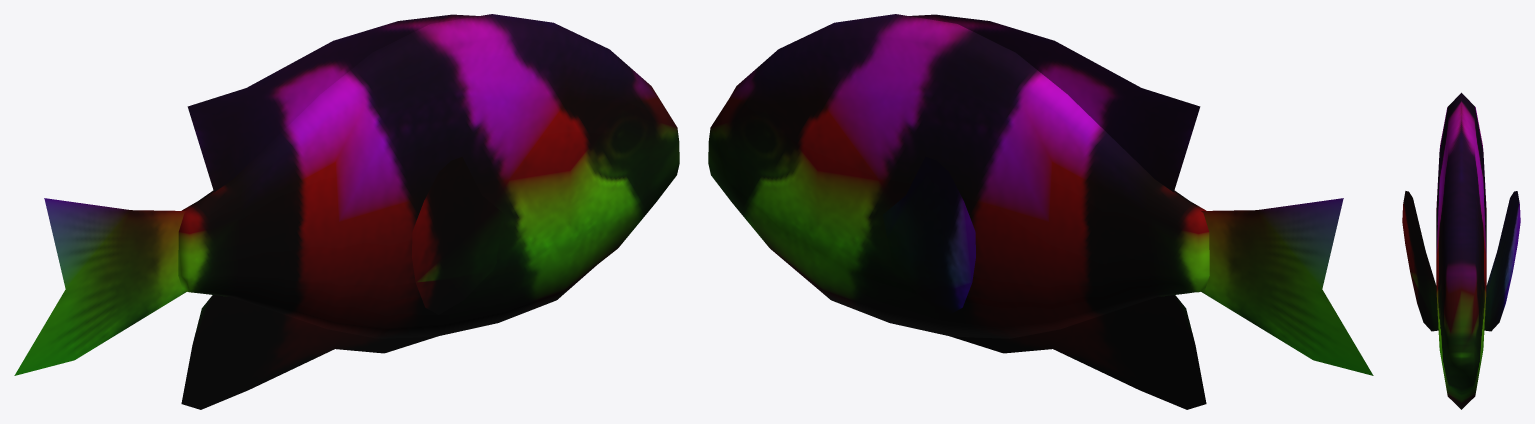
File: three_stripe_damselfish.glb
3 renders of one model, left to right at view 1: azimuth 30°, elevation 25°; view 2: azimuth 150°, elevation 25°; view 3: azimuth 270°, elevation 25°, orthographic. The views are drawn at different scales.
Visible parts, largest first — view 1: ThreeStripeDamselfish; view 2: ThreeStripeDamselfish; view 3: ThreeStripeDamselfish.
Part boxes in pixels (left/top/right/bottom): ThreeStripeDamselfish: left=14, top=14, right=679, bottom=409; ThreeStripeDamselfish: left=708, top=14, right=1373, bottom=409; ThreeStripeDamselfish: left=1402, top=92, right=1520, bottom=409.
Size of the model in its own units: 1 by 0.4894 by 0.1858.
1 material, 1 textured.
